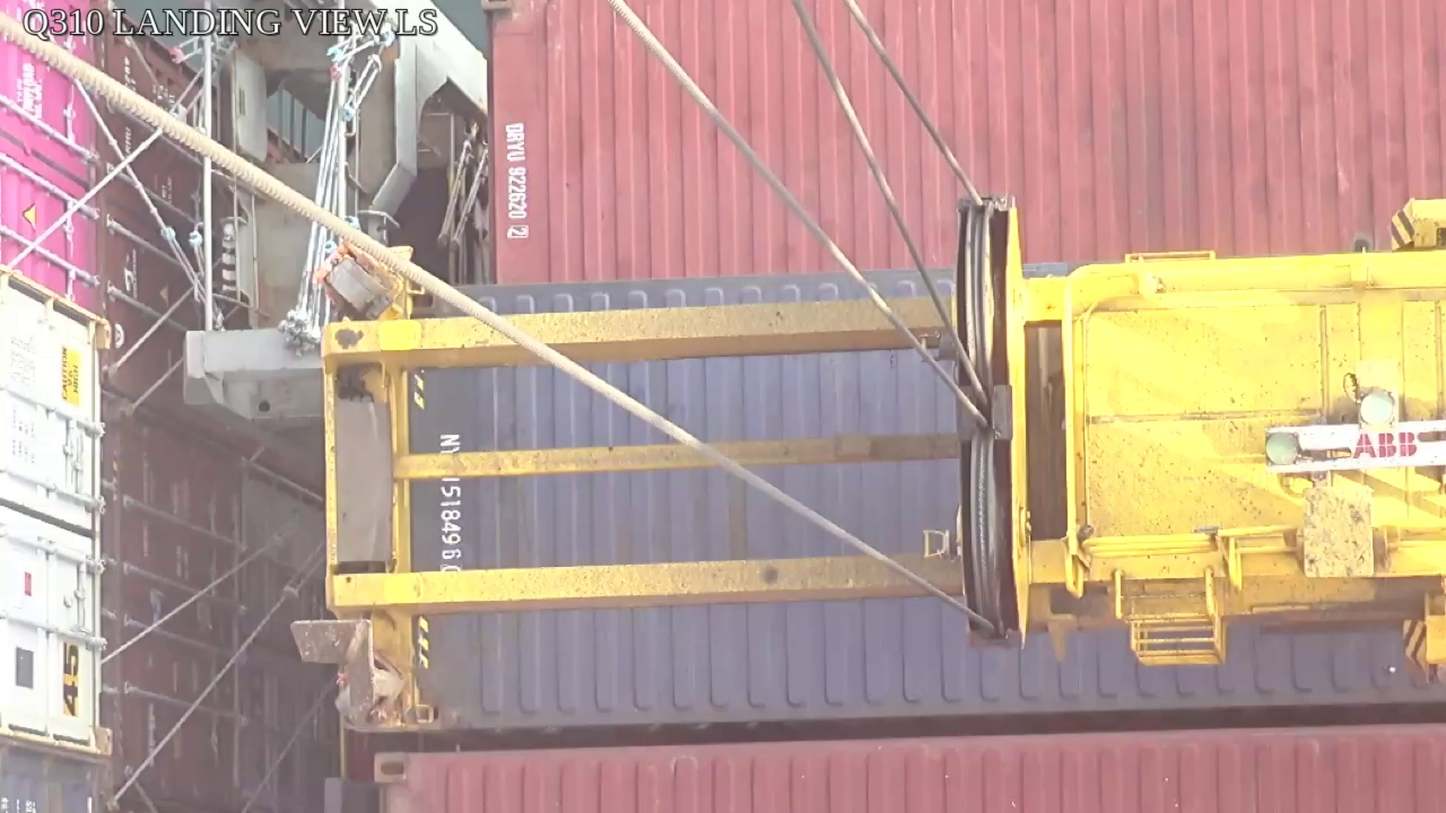aa: (953, 196, 1037, 647)
